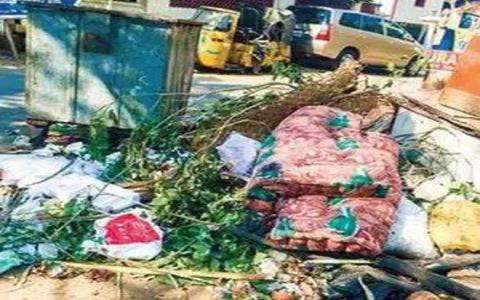overflowing garbage: (19, 1, 442, 263)
